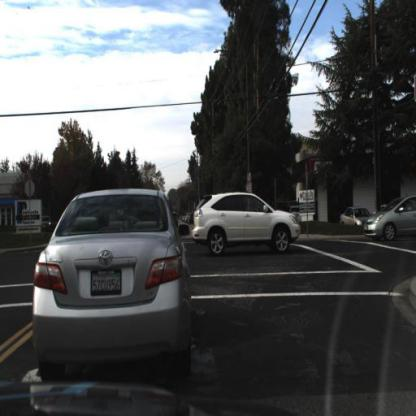car: (22, 181, 199, 381), (186, 187, 308, 261), (363, 177, 416, 250), (339, 207, 376, 235), (282, 201, 307, 231)
